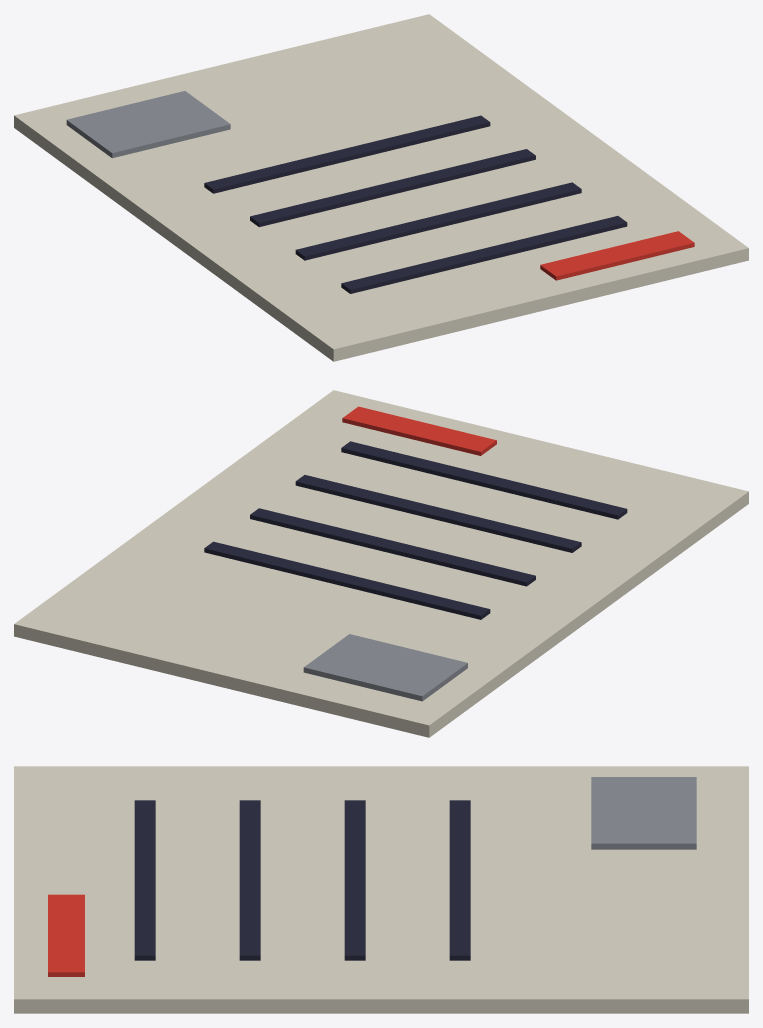
File: bowl_lead_invoice.glb
The picture shows the model from 3 angles, top to bottom: view 1: azimuth 30°, elevation 25°; view 2: azimuth 150°, elevation 25°; view 3: azimuth 270°, elevation 25°; orthographic projection. The views are drawn at different scales.
Visible parts, largest first — view 1: paper_invoice_paper, lines_bet_ink (×4), logo_lead_grey, total_invoice_total; view 2: paper_invoice_paper, lines_bet_ink (×4), logo_lead_grey, total_invoice_total; view 3: paper_invoice_paper, lines_bet_ink (×4), logo_lead_grey, total_invoice_total.
Part boxes in pixels (<box>): paper_invoice_paper: <box>14,14,748,361</box>; lines_bet_ink (×4): <box>204,115,627,293</box>; logo_lead_grey: <box>66,91,230,158</box>; total_invoice_total: <box>540,231,694,280</box>; paper_invoice_paper: <box>14,390,748,737</box>; lines_bet_ink (×4): <box>204,441,627,619</box>; logo_lead_grey: <box>303,634,467,701</box>; total_invoice_total: <box>342,406,496,455</box>; paper_invoice_paper: <box>14,766,748,1013</box>; lines_bet_ink (×4): <box>134,800,470,960</box>; logo_lead_grey: <box>591,777,696,849</box>; total_invoice_total: <box>48,894,84,976</box>.
Bounding box in the file's own units: 0.21 × 0.0085 × 0.28.
